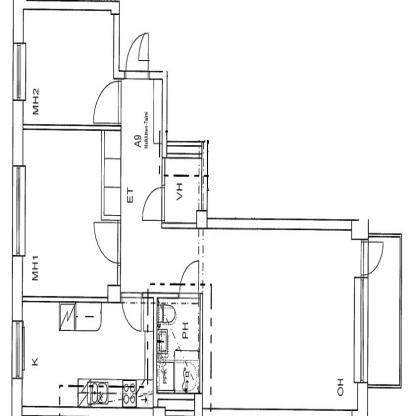door: (90, 78, 121, 130), (90, 220, 121, 268), (124, 33, 152, 83), (115, 291, 145, 337), (356, 234, 386, 276), (176, 258, 202, 306), (140, 185, 163, 226)
window: (351, 269, 371, 388), (9, 163, 31, 261), (9, 315, 27, 387), (10, 40, 29, 105)
